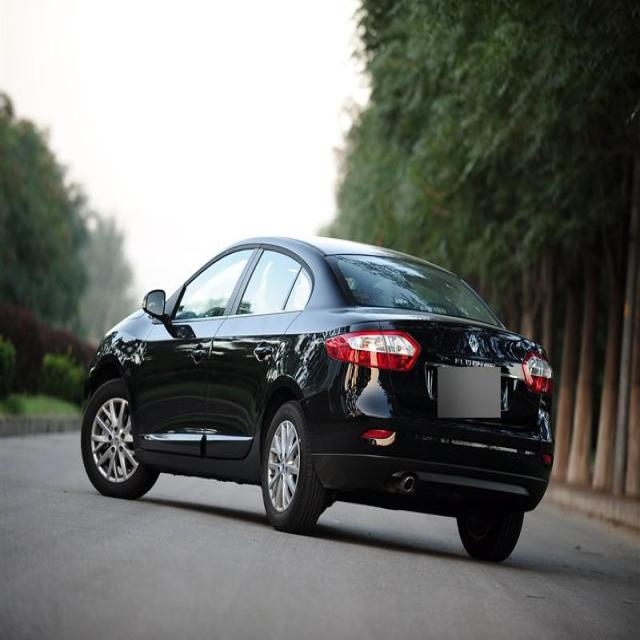back_glass: (326, 250, 516, 336)
back_left_side_light: (322, 326, 424, 375)
back_right_side_light: (512, 344, 560, 396)
door: (202, 241, 324, 469)
front_left_side_door: (142, 242, 258, 478)
front_left_side_mirror: (138, 282, 172, 322)
rear_bumper: (340, 402, 558, 521)
wheel: (247, 395, 329, 542), (76, 385, 162, 504), (446, 476, 530, 574)
